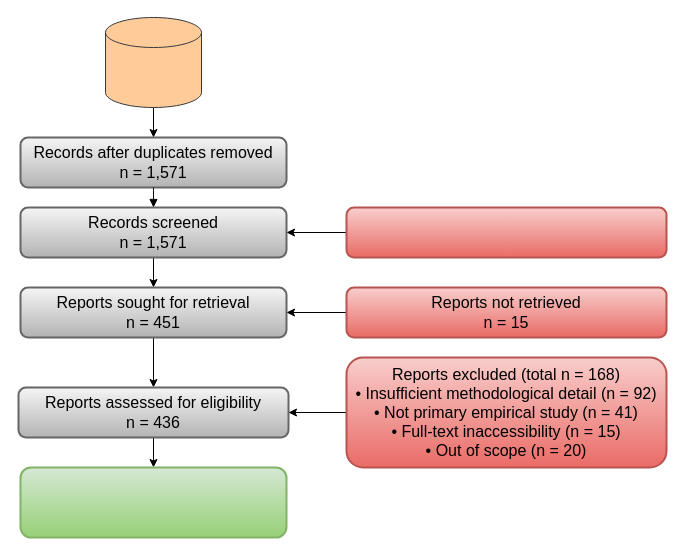
Image size: 684x556. Some labels were removed from this diagram. The centre of each missing label's shape, as x and y in pixels:
"Records excluded based on title/abstract n = 1,120" belongs at pixel 506 232.
"Scopus n = 1,571" belongs at pixel 153 62.
"Studies included in quantitative synthesis (Phase 6) n = 268" belongs at pixel 153 502.
